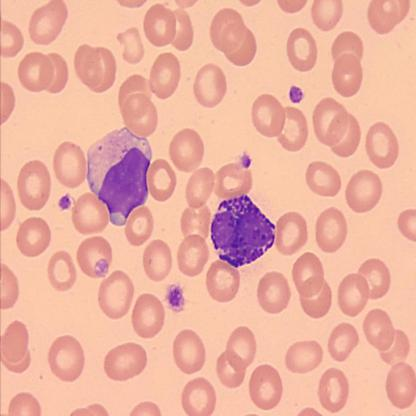Basophil: (85, 124, 151, 227), (207, 191, 279, 271)
